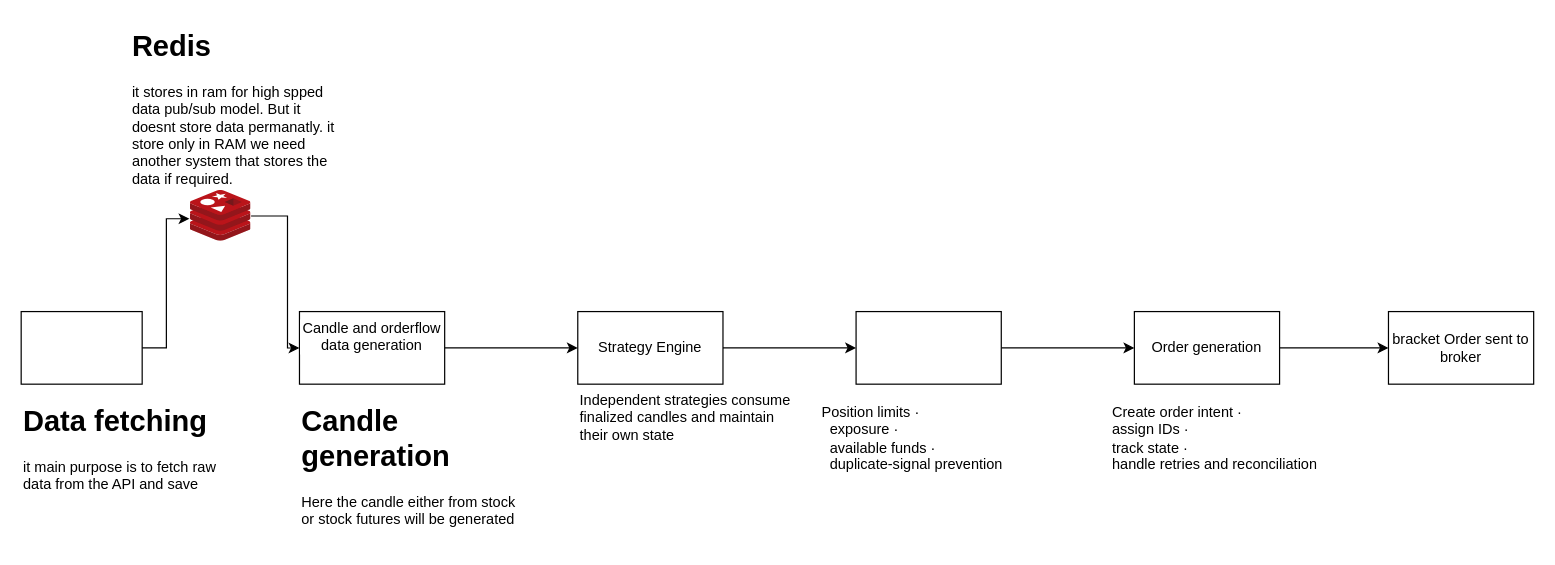
Image size: 1555x565. Some labels were removed from this diagram. Each missing label, with the centre of its shape:
"Data Fetching" belongs at point 81,347.
"Risk management and Trade validation" belongs at point 928,347.
